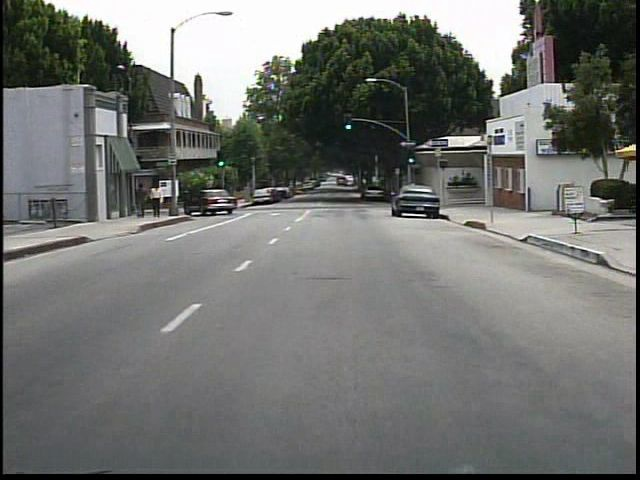person: (138, 182, 154, 220), (151, 183, 167, 220)
